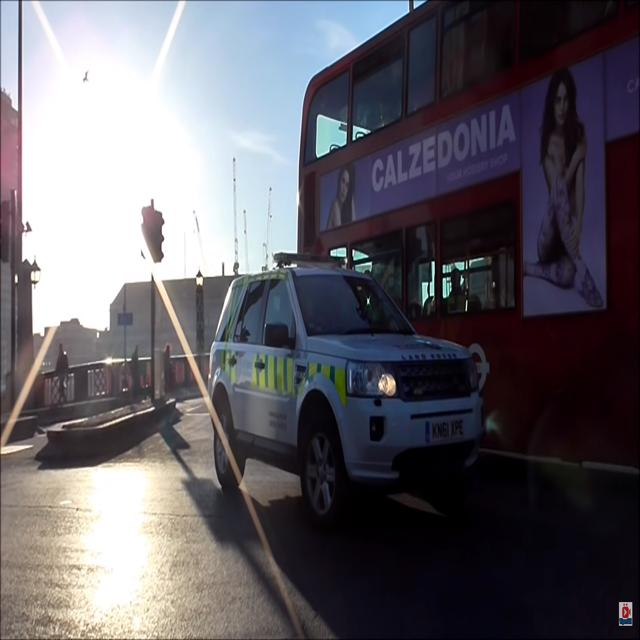emergency-vehicles: (198, 246, 492, 543)
